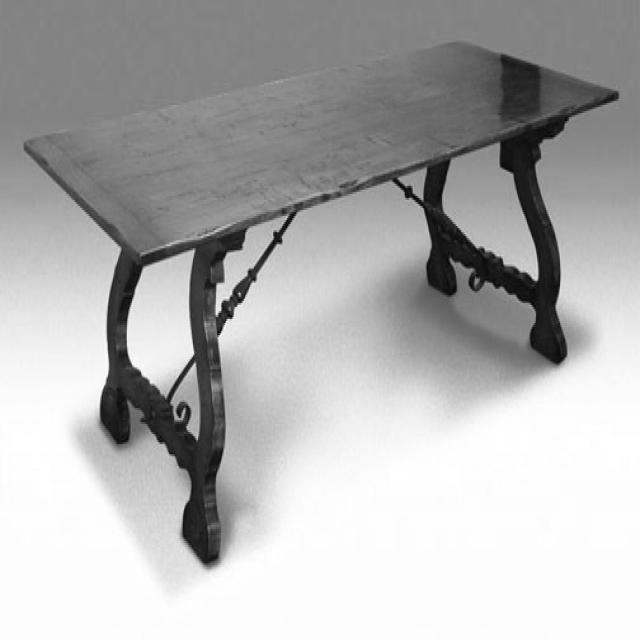table: (21, 39, 618, 566)
